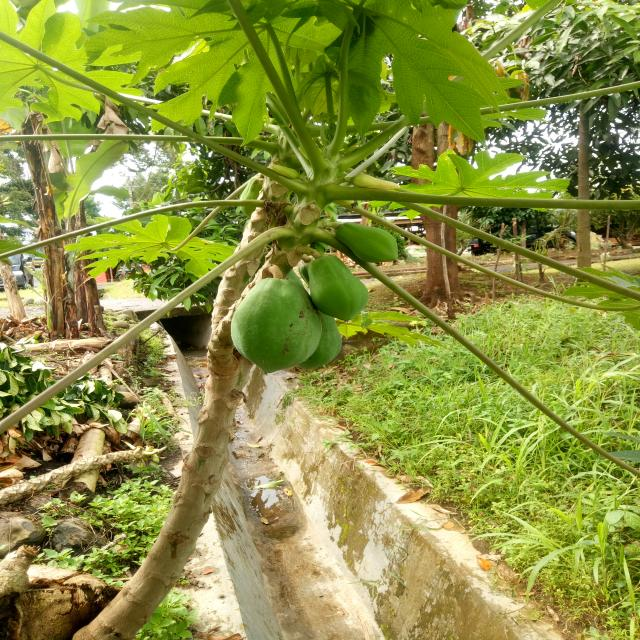Pepaya unrippen: (233, 275, 324, 373), (304, 250, 364, 317), (337, 227, 412, 267)
